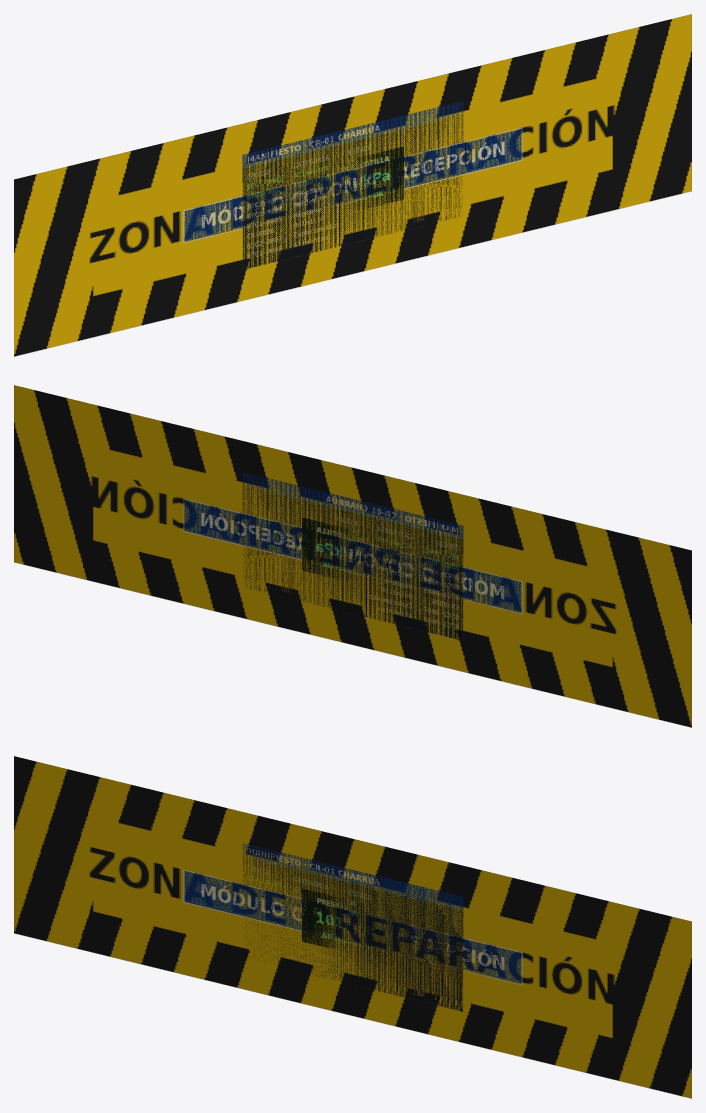
File: SM_Senaletica_Colonia.fbx
The picture shows the model from 3 angles, top to bottom: view 1: azimuth 30°, elevation 25°; view 2: azimuth 150°, elevation 25°; view 3: azimuth 330°, elevation 25°; orthographic projection.
Visible parts, largest first — view 1: SM_Marca_Zona_Preparacion, SM_Pantalla_Manifiesto, SM_CartelC_0, SM_Pantalla_Presion; view 2: SM_Marca_Zona_Preparacion, SM_Pantalla_Manifiesto, SM_CartelC_0, SM_Pantalla_Presion; view 3: SM_Marca_Zona_Preparacion, SM_Pantalla_Manifiesto, SM_CartelC_0, SM_Pantalla_Presion.
Boxes of the visible parts, x1,y1,x2,y2 form: SM_Marca_Zona_Preparacion: (14,14,691,356); SM_Pantalla_Manifiesto: (242,101,463,269); SM_CartelC_0: (183,128,522,243); SM_Pantalla_Presion: (330,146,403,211); SM_Marca_Zona_Preparacion: (14,385,691,727); SM_Pantalla_Manifiesto: (242,472,463,640); SM_CartelC_0: (183,499,522,614); SM_Pantalla_Presion: (302,517,375,582); SM_Marca_Zona_Preparacion: (14,756,691,1098); SM_Pantalla_Manifiesto: (242,843,463,1011); SM_CartelC_0: (183,870,522,985); SM_Pantalla_Presion: (302,888,353,951).
Size of the model in its own units: 1.6 by 0.4 by 0.
